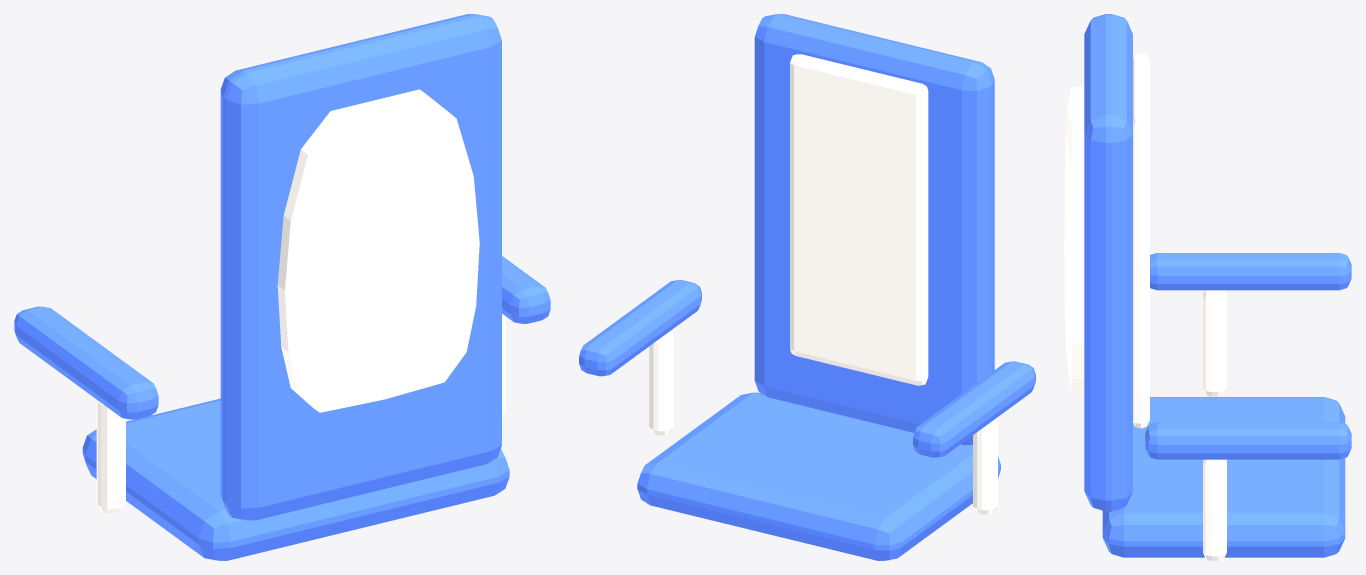
Rendered from native-fixture-export.glb.
3 views of the same model, side by side, from view 1: azimuth 30°, elevation 25°; view 2: azimuth 150°, elevation 25°; view 3: azimuth 270°, elevation 25° (orthographic). The views are drawn at different scales.
Visible parts, largest first — view 1: StaticBatch__chair-root__fixture-chair-blue, StaticBatch__chair-root__fixture-ivory, Chair_Seat; view 2: StaticBatch__chair-root__fixture-chair-blue, StaticBatch__chair-root__fixture-ivory, Chair_Seat; view 3: StaticBatch__chair-root__fixture-chair-blue, Chair_Seat, StaticBatch__chair-root__fixture-ivory.
Part boxes in pixels (<box>): StaticBatch__chair-root__fixture-chair-blue: <box>14,14,550,520</box>; StaticBatch__chair-root__fixture-ivory: <box>96,89,505,514</box>; Chair_Seat: <box>82,398,509,560</box>; StaticBatch__chair-root__fixture-chair-blue: <box>579,14,1035,457</box>; StaticBatch__chair-root__fixture-ivory: <box>649,54,997,514</box>; Chair_Seat: <box>637,392,1000,560</box>; StaticBatch__chair-root__fixture-chair-blue: <box>1084,14,1351,511</box>; Chair_Seat: <box>1102,397,1345,557</box>; StaticBatch__chair-root__fixture-ivory: <box>1064,53,1226,560</box>.
Size of the model in its own units: 0.725 by 0.79 by 0.473.
